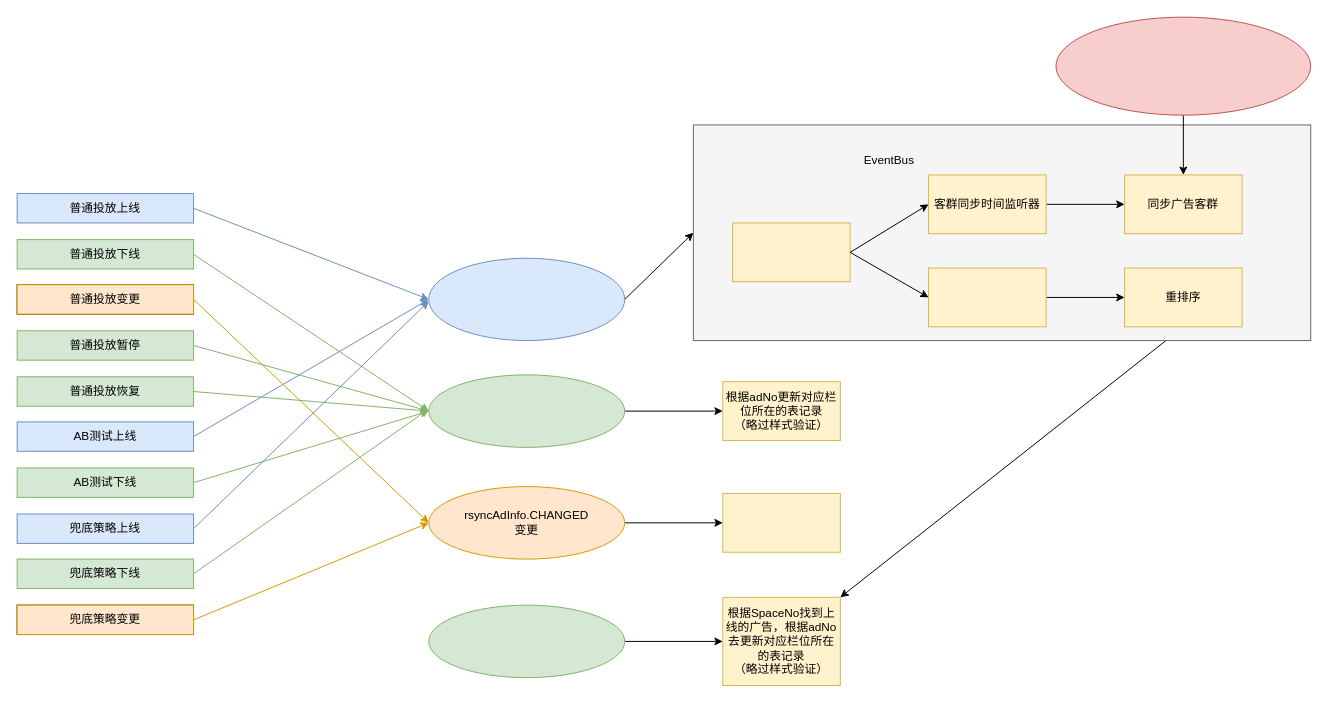
The diagram is 1328 pixels wide and 703 high, and some of its shapes have lost their labels. Each missing label, with the box of its shape:
rsyncAdInfo.NEWED 上线: (428, 257, 625, 341)
rsyncAdState 暂停，恢复，下线: (428, 374, 625, 447)
Schedule服务 每天01:00会调用定时客群同步: (1055, 16, 1311, 115)
同步优先级: (428, 604, 625, 678)
同步广告策略: (732, 222, 850, 282)
更新原广告策略，并下线样式验证: (722, 492, 840, 552)
重排序监听器: (928, 267, 1046, 327)
